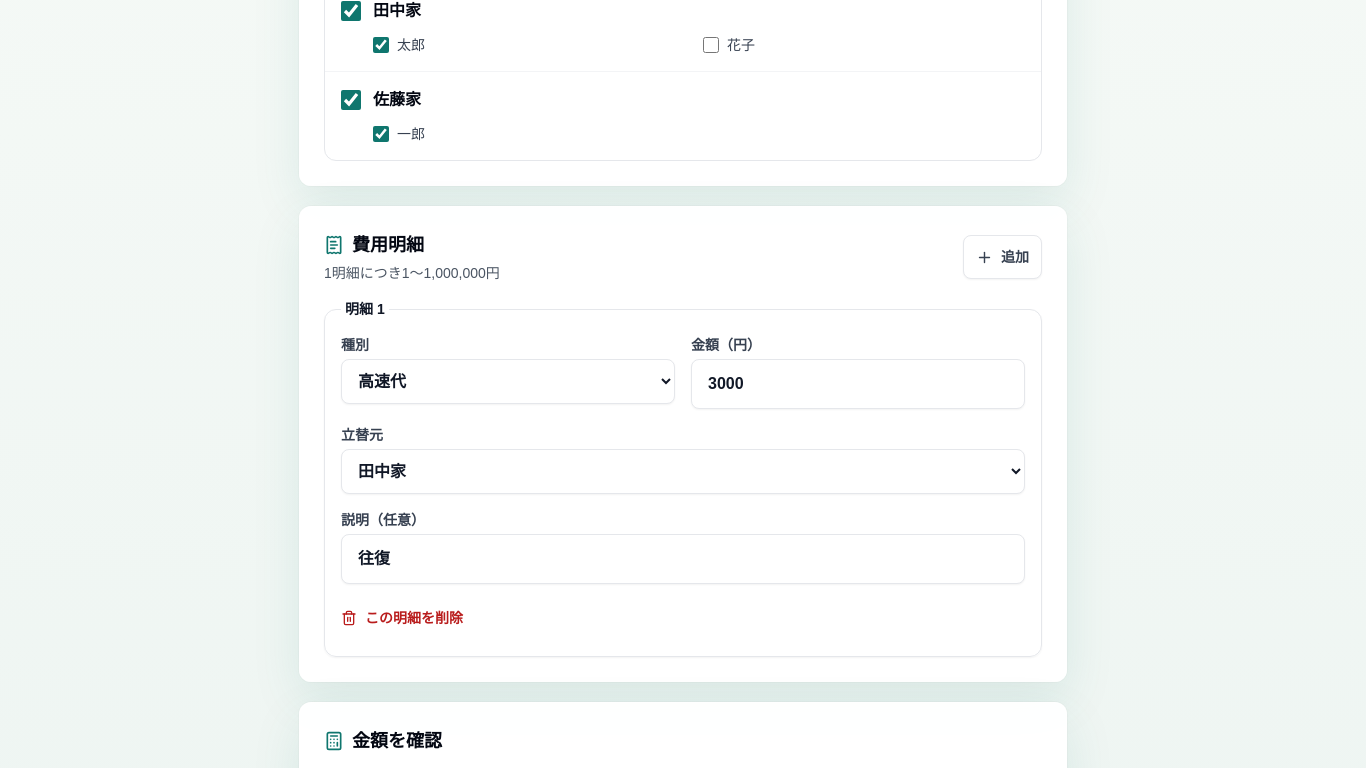
Test: 下書きをversion付きで保存する
(page scrolled)
Replace the text in the number field labelled "金額（円）" with "4000" at (858, 384), box left=691, top=359, right=1025, bottom=409
(page scrolled)
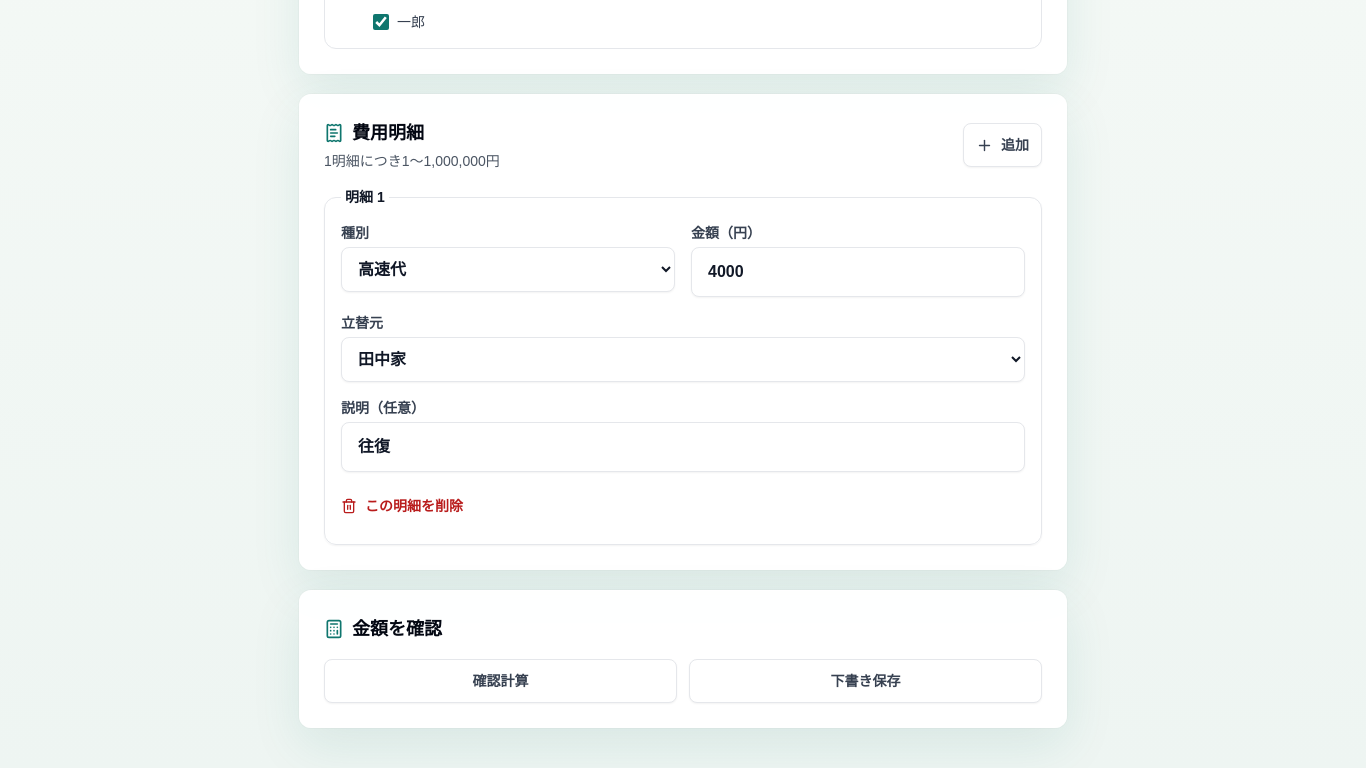
Click the button "下書き保存" at (866, 681), box left=689, top=659, right=1042, bottom=703
(page scrolled)
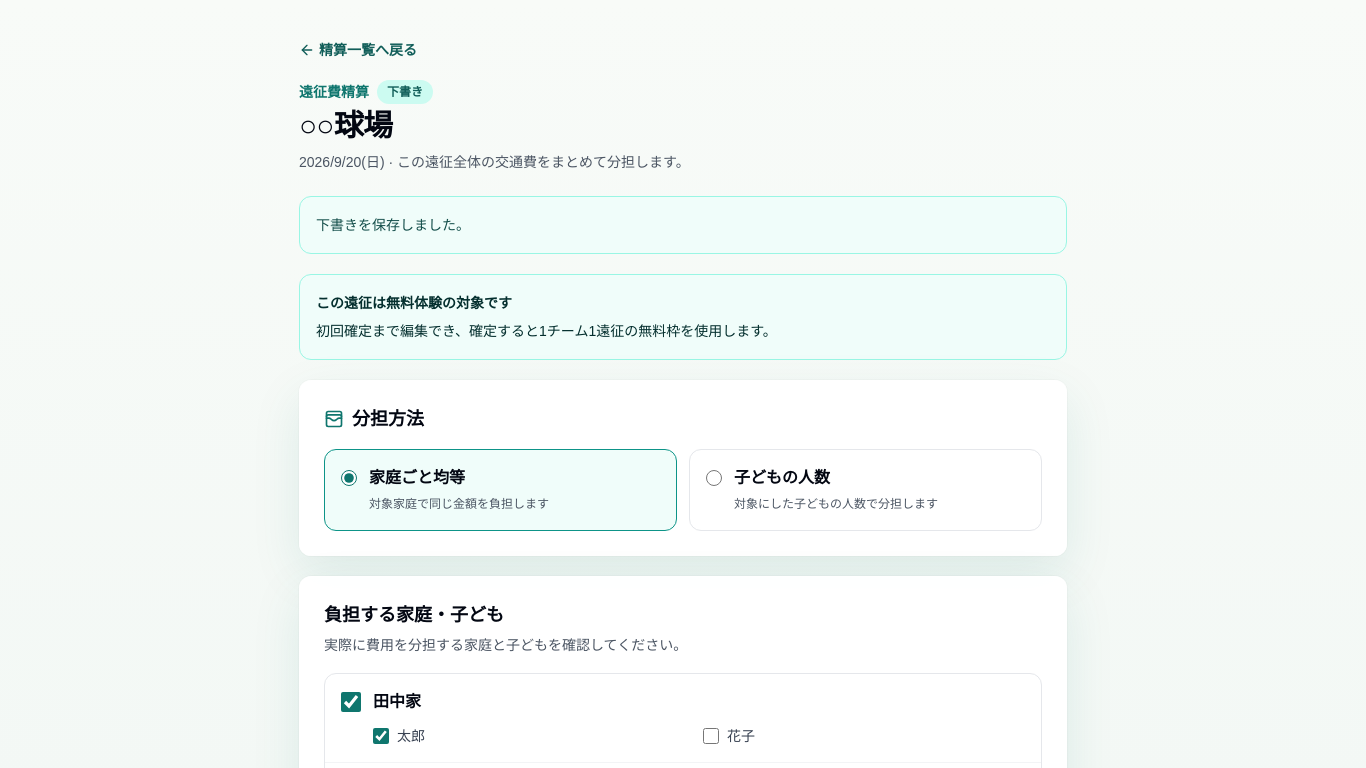
Now the message shows "下書きを保存しました", box left=316, top=217, right=470, bottom=233
